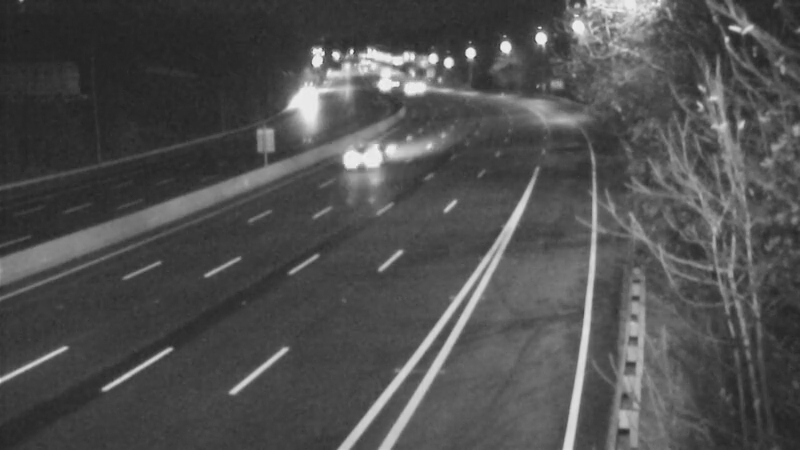vehicle: (330, 116, 410, 196)
